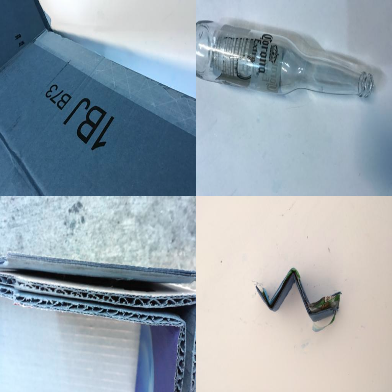cardboard: (1, 1, 196, 195), (1, 249, 196, 390), (253, 268, 341, 333)
glass: (197, 20, 373, 98)
